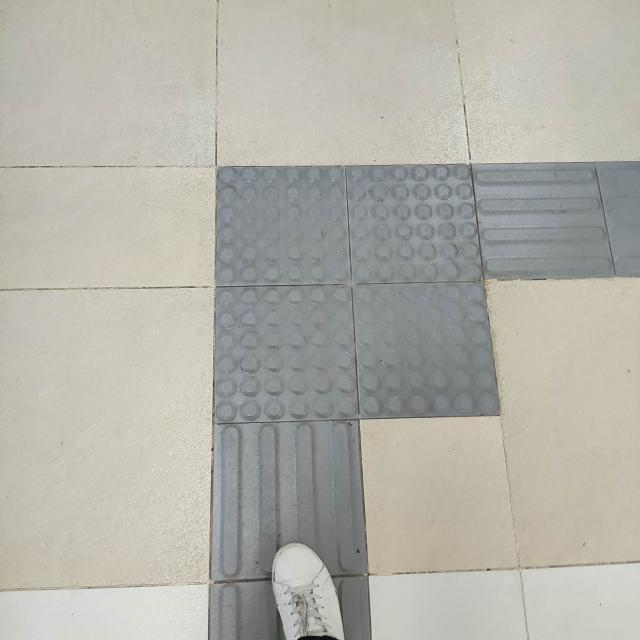kanan: (131, 120, 640, 484)
